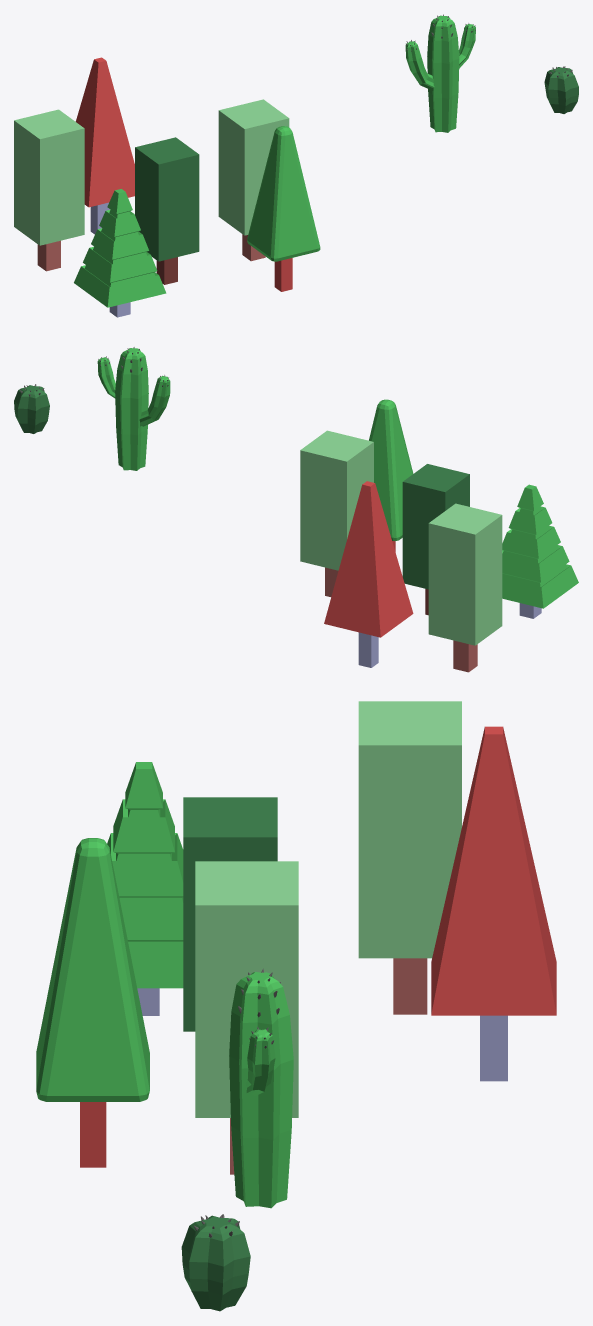
File: lv2_trees.fbx
3 renders of one model, top to bottom at view 1: azimuth 30°, elevation 25°; view 2: azimuth 150°, elevation 25°; view 3: azimuth 270°, elevation 25°, orthographic. The views are drawn at different scales.
Visible parts, largest first — view 1: lv2_tree_cube, lv2_tree_cube_dark, lv2_tree_rounded, lv2_tree_cube_light, lv2_tree_pyramid, lv2_tree_pointy, lv2_longcactus, lv2_cactus; view 2: lv2_tree_cube, lv2_tree_pointy, lv2_tree_cube_light, lv2_tree_pyramid, lv2_longcactus, lv2_tree_cube_dark, lv2_tree_rounded, lv2_cactus; view 3: lv2_tree_cube, lv2_tree_pointy, lv2_tree_rounded, lv2_tree_cube_light, lv2_longcactus, lv2_tree_pyramid, lv2_tree_cube_dark, lv2_cactus.
Part boxes in pixels (box(x1,y1,x2,y2)): lv2_tree_cube: box(14, 109, 84, 271); lv2_tree_cube_dark: box(135, 137, 199, 284); lv2_tree_rounded: box(247, 126, 320, 291); lv2_tree_cube_light: box(218, 99, 289, 261); lv2_tree_pyramid: box(74, 189, 166, 317); lv2_tree_pointy: box(75, 57, 134, 234); lv2_longcactus: box(405, 14, 475, 132); lv2_cactus: box(544, 66, 578, 113); lv2_tree_cube: box(428, 503, 502, 672); lv2_tree_pointy: box(324, 481, 413, 667); lv2_tree_cube_light: box(300, 430, 373, 596); lv2_tree_pyramid: box(502, 484, 578, 618); lv2_longcactus: box(97, 347, 170, 470); lv2_tree_cube_dark: box(402, 464, 469, 615); lv2_tree_rounded: box(369, 399, 413, 551); lv2_cactus: box(14, 384, 49, 433); lv2_tree_cube: box(358, 701, 461, 1014); lv2_tree_pointy: box(431, 726, 556, 1081); lv2_tree_rounded: box(36, 838, 149, 1167); lv2_tree_cube_light: box(195, 861, 298, 1174); lv2_longcactus: box(229, 969, 293, 1208); lv2_tree_pyramid: box(107, 762, 183, 1015); lv2_tree_cube_dark: box(183, 797, 277, 1031); lv2_cactus: box(181, 1214, 250, 1311).
Size of the model in its own units: 1730 by 628 by 773.
